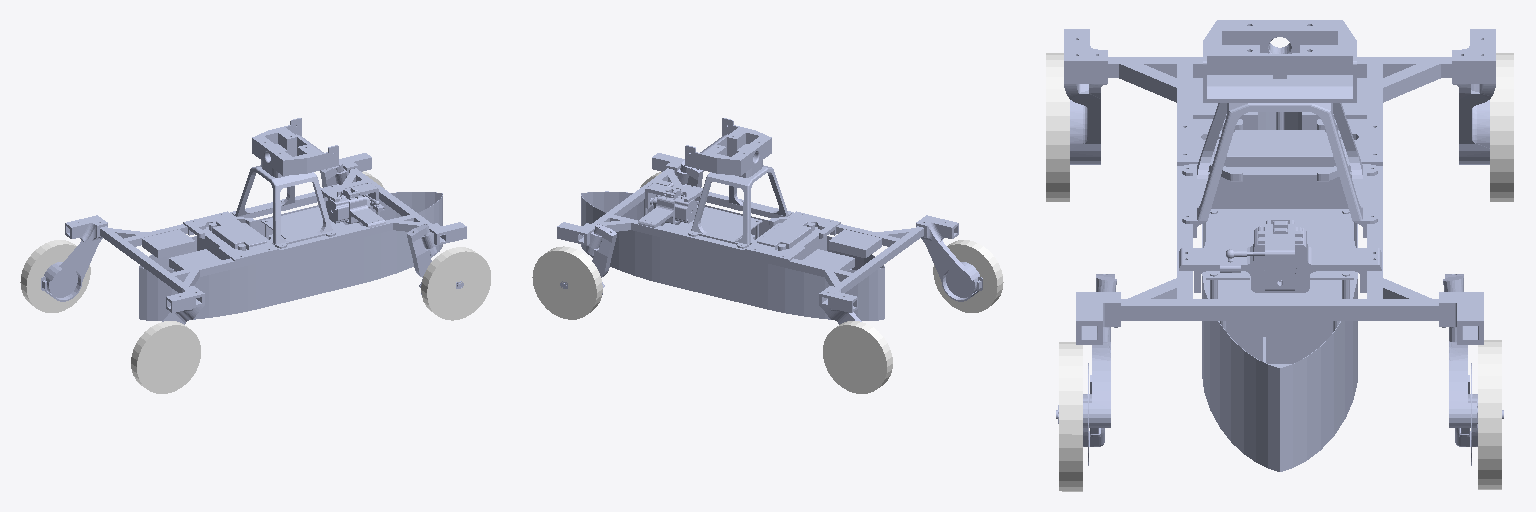
The robot description file, URDF, robot "asc_urdf":
<?xml version="1.0" encoding="utf-8"?>
<!-- This URDF was automatically created by SolidWorks to URDF Exporter! Originally created by [author] ([email redacted]) 
     Commit Version: 1.5.1-0-g916b5db  Build Version: 1.5.7152.31018
     For more information, please see http://wiki.ros.org/sw_urdf_exporter -->
<robot
  name="asc_urdf">
  <link name="base_link">
    <inertial>
      <origin
        xyz="-0.00354367792622959 -0.00408314240366044 0.189948455311974"
        rpy="0 0 0" />
      <mass
        value="14.1800145264861" />
      <inertia
        ixx="0.0519967415993783"
        ixy="-1.12399831877328E-05"
        ixz="-0.00143014184891189"
        iyy="0.19035789846589"
        iyz="-5.01339506637704E-06"
        izz="0.208878625775803" />
    </inertial>
    <visual>
      <origin
        xyz="0 0 0"
        rpy="0 0 0" />
      <geometry>
        <mesh
          filename="package://asc_urdf/meshes/base_link.STL" />
      </geometry>
      <material
        name="">
        <color
          rgba="0.792156862745098 0.819607843137255 0.933333333333333 1" />
      </material>
    </visual>
    <collision>
      <origin
        xyz="0 0 0"
        rpy="0 0 0" />
      <geometry>
        <mesh
          filename="package://asc_urdf/meshes/base_link.STL" />
      </geometry>
    </collision>
  </link>
  <link name="front_right_steering_link">
    <inertial>
      <origin
        xyz="-0.00370338121310537 -0.0196362046661666 -0.135091153340805"
        rpy="0 0 0" />
      <mass
        value="0.380919703630295" />
      <inertia
        ixx="0.00107634033140466"
        ixy="1.51573650824965E-05"
        ixz="-6.94838293881106E-05"
        iyy="0.000914613440717638"
        iyz="0.000195407309247701"
        izz="0.000234021785961031" />
    </inertial>
    <visual>
      <origin
        xyz="0 0 0"
        rpy="0 0 0" />
      <geometry>
        <mesh
          filename="package://asc_urdf/meshes/front_right_steering_link.STL" />
      </geometry>
      <material
        name="">
        <color
          rgba="0.792156862745098 0.819607843137255 0.933333333333333 1" />
      </material>
    </visual>
    <collision>
      <origin
        xyz="0 0 0"
        rpy="0 0 0" />
      <geometry>
        <mesh
          filename="package://asc_urdf/meshes/front_right_steering_link.STL" />
      </geometry>
    </collision>
  </link>
  <joint name="front_right_steering_joint"
    type="revolute">
    <origin
      xyz="0.35635 -0.23074 0.27672"
      rpy="0.29046 -0.12882 -1.6092" />
    <parent
      link="base_link" />
    <child
      link="front_right_steering_link" />
    <axis
      xyz="0 0 -1" />
    <limit
      lower="-0.3"
      upper="0.3"
      effort="0"
      velocity="0" />
  </joint>
  <link name="front_right_wheel_link">
    <inertial>
      <origin
        xyz="-1.78085064877393 -0.596628586488151 1.14528514474377"
        rpy="0 0 0" />
      <mass
        value="368.982800568637" />
      <inertia
        ixx="133.019788003658"
        ixy="-43.9800933039268"
        ixz="50.7007125568813"
        iyy="317.318424128749"
        iyz="25.9183879205888"
        izz="292.361193071731" />
    </inertial>
    <visual>
      <origin
        xyz="0 0 0"
        rpy="1.57 0 0" />
      <geometry>
        <cylinder length="0.032" radius="0.1"/>
      </geometry>
      <material
        name="">
        <color
          rgba="1 1 1 1" />
      </material>
    </visual>
    <collision>
      <origin
        xyz="0 0 0"
        rpy="1.57 0 0" />
      <geometry>
       <cylinder length="0.032" radius="0.1"/>
      </geometry>
    </collision>
  </link>
  <joint name="front_right_wheel_joint"
    type="continuous">
    <origin
      xyz="0.024 0.023741 -0.18704"
      rpy="0.13981 0.28531 1.6105" />
    <parent
      link="front_right_steering_link" />
    <child
      link="front_right_wheel_link" />
    <axis
      xyz="5.3677E-05 1 0.00055924" />
  </joint>
  <link name="front_left_steering_link">
    <inertial>
      <origin
        xyz="-0.0143963427033764 -0.0197827213475441 -0.13435099647841"
        rpy="0 0 0" />
      <mass
        value="0.380923597476793" />
      <inertia
        ixx="0.001079691155645"
        ixy="1.10638461415172E-05"
        ixz="-4.46502464274426E-05"
        iyy="0.000915031639103001"
        iyz="0.000194935954793174"
        izz="0.000230248883032502" />
    </inertial>
    <visual>
      <origin
        xyz="0 0 0"
        rpy="0 0 0" />
      <geometry>
        <mesh
          filename="package://asc_urdf/meshes/front_left_steering_link.STL" />
      </geometry>
      <material
        name="">
        <color
          rgba="0.792156862745098 0.819607843137255 0.933333333333333 1" />
      </material>
    </visual>
    <collision>
      <origin
        xyz="0 0 0"
        rpy="0 0 0" />
      <geometry>
        <mesh
          filename="package://asc_urdf/meshes/front_left_steering_link.STL" />
      </geometry>
    </collision>
  </link>
  <joint name="front_left_steering_joint"
    type="revolute">
    <origin
      xyz="0.35635 0.22966 0.27672"
      rpy="0.28907 0.00024223 -1.5707" />
    <parent
      link="base_link" />
    <child
      link="front_left_steering_link" />
    <axis
      xyz="-0.13374 -0.0010779 -0.99102" />
    <limit
      lower="-0.3"
      upper="0.3"
      effort="0"
      velocity="0" />
  </joint>
  <link name="front_left_wheel_link">
    <inertial>
      <origin
        xyz="-1.78085064877393 -1.19364246250239 1.14578573702053"
        rpy="0 0 0" />
      <mass
        value="368.982800568637" />
      <inertia
        ixx="133.019788003658"
        ixy="-43.9517327500751"
        ixz="50.7252998913125"
        iyy="317.347405323308"
        iyz="25.9044147226604"
        izz="292.332211877173" />
    </inertial>
    <visual>
      <origin
        xyz="0 0 0"
        rpy="1.57 0 0" />
      <geometry>
        <cylinder length="0.032" radius="0.1"/>
      </geometry>
      <material
        name="">
        <color
          rgba="1 1 1 1" />
      </material>
    </visual>
    <collision>
      <origin
        xyz="0 0 0"
        rpy="1.57 0 0" />
      <geometry>
        <cylinder length="0.032" radius="0.1"/>
      </geometry>
    </collision>
  </link>
  <joint name="front_left_wheel_joint"
    type="continuous">
    <origin
      xyz="-0.05 0.023546 -0.17951"
      rpy="1.5963E-05 0.28907 1.5707" />
    <parent
      link="front_left_steering_link" />
    <child
      link="front_left_wheel_link" />
    <axis
      xyz="5.3677E-05 -1 0.00055924" />
  </joint>
  <link name="rear_right_wheel_link">
    <inertial>
      <origin
        xyz="-0.870645503315132 -0.598162528448941 1.1468467149915"
        rpy="0 0 0" />
      <mass
        value="368.982800568637" />
      <inertia
        ixx="133.019788003658"
        ixy="-43.9659147457672"
        ixz="50.7130082066283"
        iyy="317.332916679608"
        iyz="25.9114053734586"
        izz="292.346700520872" />
    </inertial>
    <visual>
      <origin
        xyz="0 0 0"
        rpy="1.57 0 0" />
      <geometry>
       <cylinder length="0.032" radius="0.1"/>
      </geometry>
      <material
        name="">
        <color
          rgba="1 1 1 1" />
      </material>
    </visual>
    <collision>
      <origin
        xyz="0 0 0"
        rpy="1.57 0 0" />
      <geometry>
        <cylinder length="0.032" radius="0.1"/>
      </geometry>
    </collision>
  </link>
  <joint name="rear_right_wheel_joint"
    type="continuous">
    <origin
      xyz="-0.48012 -0.29752 0.11"
      rpy="0 0 0" />
    <parent
      link="base_link" />
    <child
      link="rear_right_wheel_link" />
    <axis
      xyz="0 -1 0" />
  </joint>
  <link name="rear_left_wheel_link">
    <inertial>
      <origin
        xyz="-0.870645503315131 -1.19210859052895 1.1468467149915"
        rpy="0 0 0" />
      <mass
        value="368.982800568637" />
      <inertia
        ixx="133.019788003658"
        ixy="-43.9659147457672"
        ixz="50.7130082066283"
        iyy="317.332916679608"
        iyz="25.9114053734586"
        izz="292.346700520872" />
    </inertial>
    <visual>
      <origin
        xyz="0 0 0"
        rpy="1.57 0 0" />
      <geometry>
        <cylinder length="0.032" radius="0.1"/>
      </geometry>
      <material
        name="">
        <color
          rgba="1 1 1 1" />
      </material>
    </visual>
    <collision>
      <origin
        xyz="0 0 0"
        rpy="1.57 0 0" />
      <geometry>
       <cylinder length="0.032" radius="0.1"/>
      </geometry>
    </collision>
  </link>
  <joint name="rear_left_wheel_joint"
    type="continuous">
    <origin
      xyz="-0.48012 0.29643 0.11"
      rpy="0 0 0" />
    <parent
      link="base_link" />
    <child
      link="rear_left_wheel_link" />
    <axis
      xyz="0 1 0" />
  </joint>


</robot>
<!--
  old xyz
  "-0.45012 -0.29752 0.11"

  new steering_joint
  "-0.45012 -0.23074 0.27672"

  new wheel_joint

  *steering_joint_pose
  *wheel_joint_origin
  *wheel_joint_axis
-->

--- Facts derived from the render (not from the file) ---
Views: 3 orthographic renders of the robot side by side, from view 1: azimuth 30°, elevation 25°; view 2: azimuth 150°, elevation 25°; view 3: azimuth 270°, elevation 25°.
Model asc_urdf with 7 links and 6 joints (2 revolute, 4 continuous), rooted at base_link, posed every joint at zero.
Visible links, largest first — view 1: base_link, rear_right_wheel_link, front_right_wheel_link, rear_left_wheel_link, front_right_steering_link; view 2: base_link, rear_left_wheel_link, front_left_wheel_link, rear_right_wheel_link, front_left_steering_link; view 3: base_link, front_right_wheel_link, front_left_wheel_link, rear_right_wheel_link, rear_left_wheel_link, front_left_steering_link, front_right_steering_link.
Boxes of the visible links, x1,y1,x2,y2 form: base_link: (41, 118, 466, 324); rear_right_wheel_link: (131, 321, 200, 393); front_right_wheel_link: (421, 247, 490, 320); rear_left_wheel_link: (20, 240, 90, 312); front_right_steering_link: (407, 224, 463, 294); base_link: (557, 118, 982, 324); rear_left_wheel_link: (823, 321, 892, 393); front_left_wheel_link: (532, 246, 602, 319); rear_right_wheel_link: (933, 240, 1003, 312); front_left_steering_link: (560, 224, 616, 294); base_link: (1064, 20, 1495, 471); front_right_wheel_link: (1059, 342, 1082, 491); front_left_wheel_link: (1478, 340, 1501, 489); rear_right_wheel_link: (1046, 53, 1069, 201); rear_left_wheel_link: (1490, 53, 1513, 201); front_left_steering_link: (1443, 274, 1503, 465); front_right_steering_link: (1056, 274, 1116, 465).
Size in the robot's own frame: 1.13 by 0.6261 by 0.5003 metres.
Meshes: 3 distinct files referenced, 3 mesh visuals loaded (3 binary STL).
